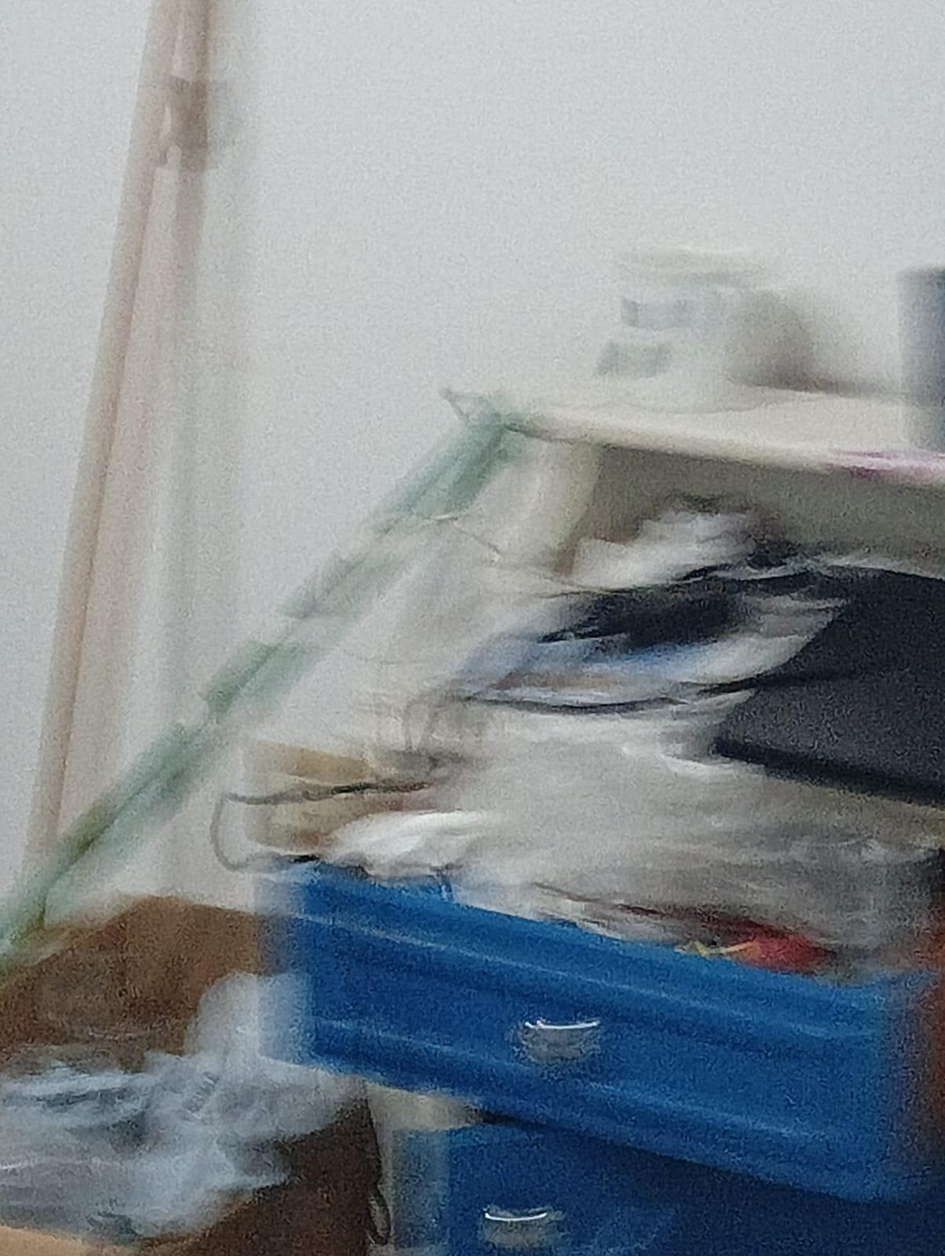cup: (597, 249, 755, 411), (898, 267, 944, 454)
